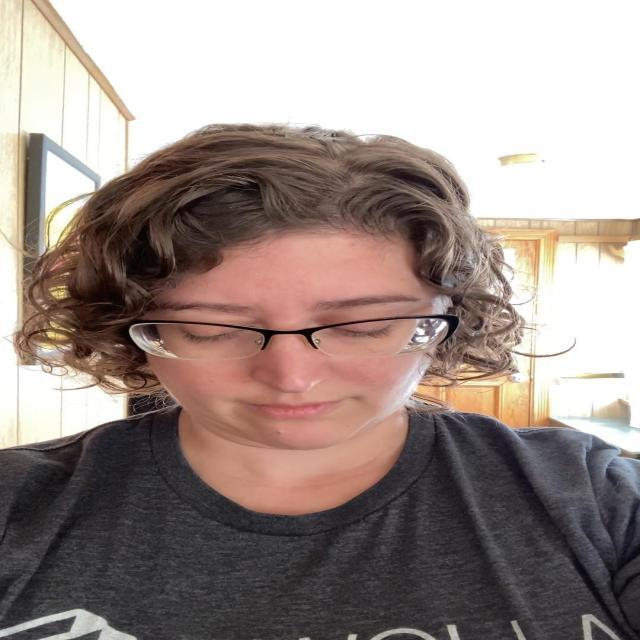no hat: (129, 232, 462, 453)
